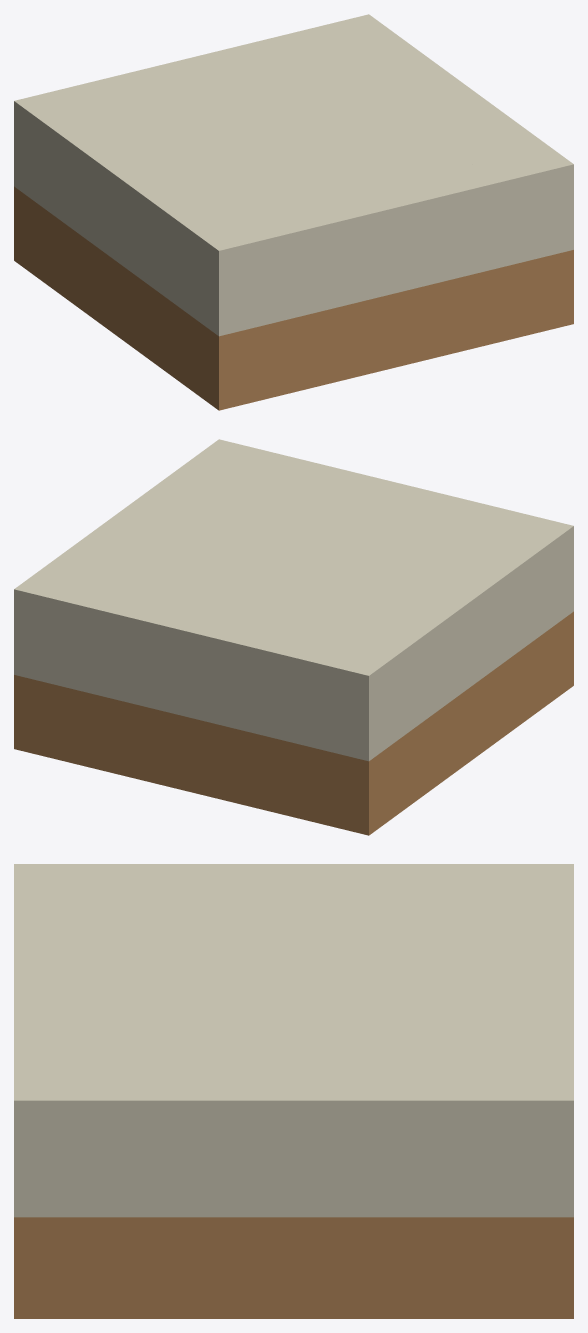
Rendered from Building 28.FBX.
The picture shows the model from 3 angles, top to bottom: view 1: azimuth 30°, elevation 25°; view 2: azimuth 150°, elevation 25°; view 3: azimuth 270°, elevation 25°; orthographic projection. The views are drawn at different scales.
Parts seen in each view (by area): view 1: Group114, Group115; view 2: Group114, Group115; view 3: Group114, Group115.
Boxes of the visible parts, bbox=[...] form: Group114: bbox=[14, 14, 573, 410]; Group115: bbox=[62, 49, 481, 226]; Group114: bbox=[14, 439, 573, 835]; Group115: bbox=[106, 474, 525, 650]; Group114: bbox=[14, 864, 573, 1318]; Group115: bbox=[84, 879, 503, 1056].
Size of the model in its own units: 39.37 by 16.93 by 39.37.
